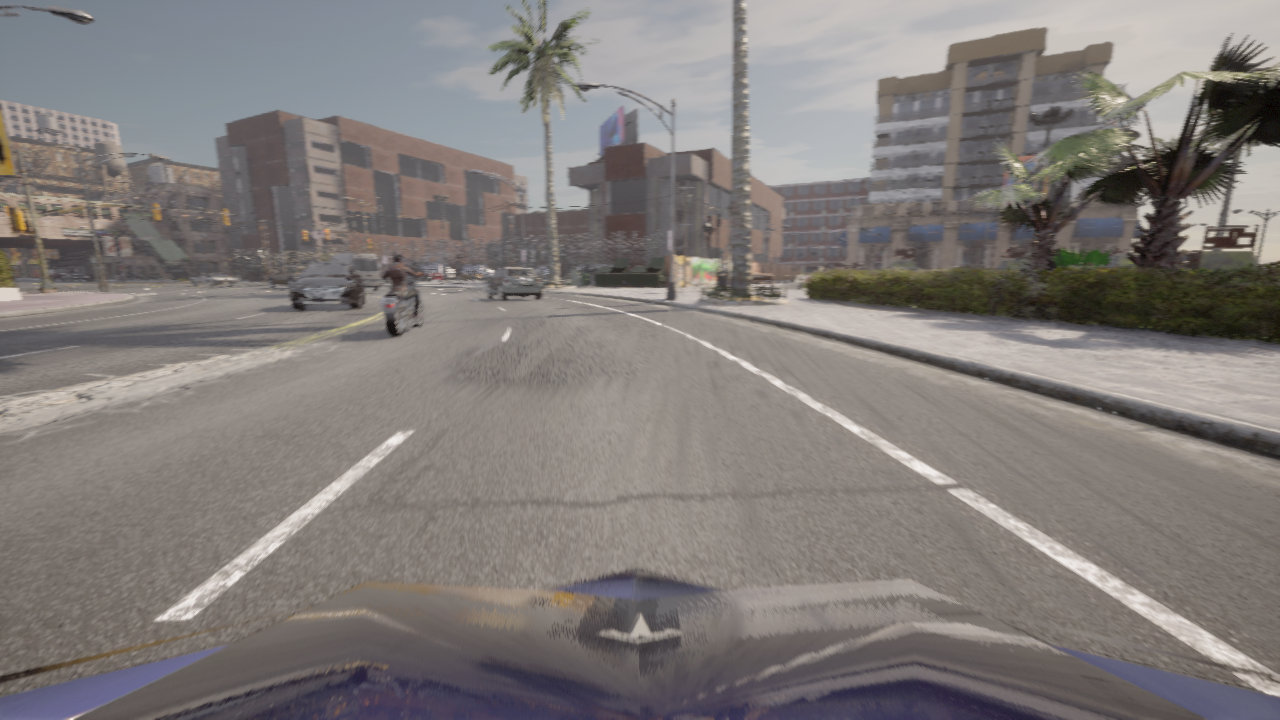cyclist: (0, 569, 1279, 719), (290, 262, 364, 310), (379, 270, 424, 337), (485, 267, 542, 301), (330, 253, 382, 290), (265, 265, 306, 288), (190, 273, 237, 286), (419, 263, 454, 279), (460, 264, 494, 279), (584, 263, 613, 276), (411, 269, 442, 281), (47, 269, 69, 280), (456, 271, 482, 280), (62, 273, 87, 281), (534, 265, 547, 278), (574, 264, 589, 270), (87, 273, 94, 281), (567, 273, 571, 278), (119, 274, 122, 280)
